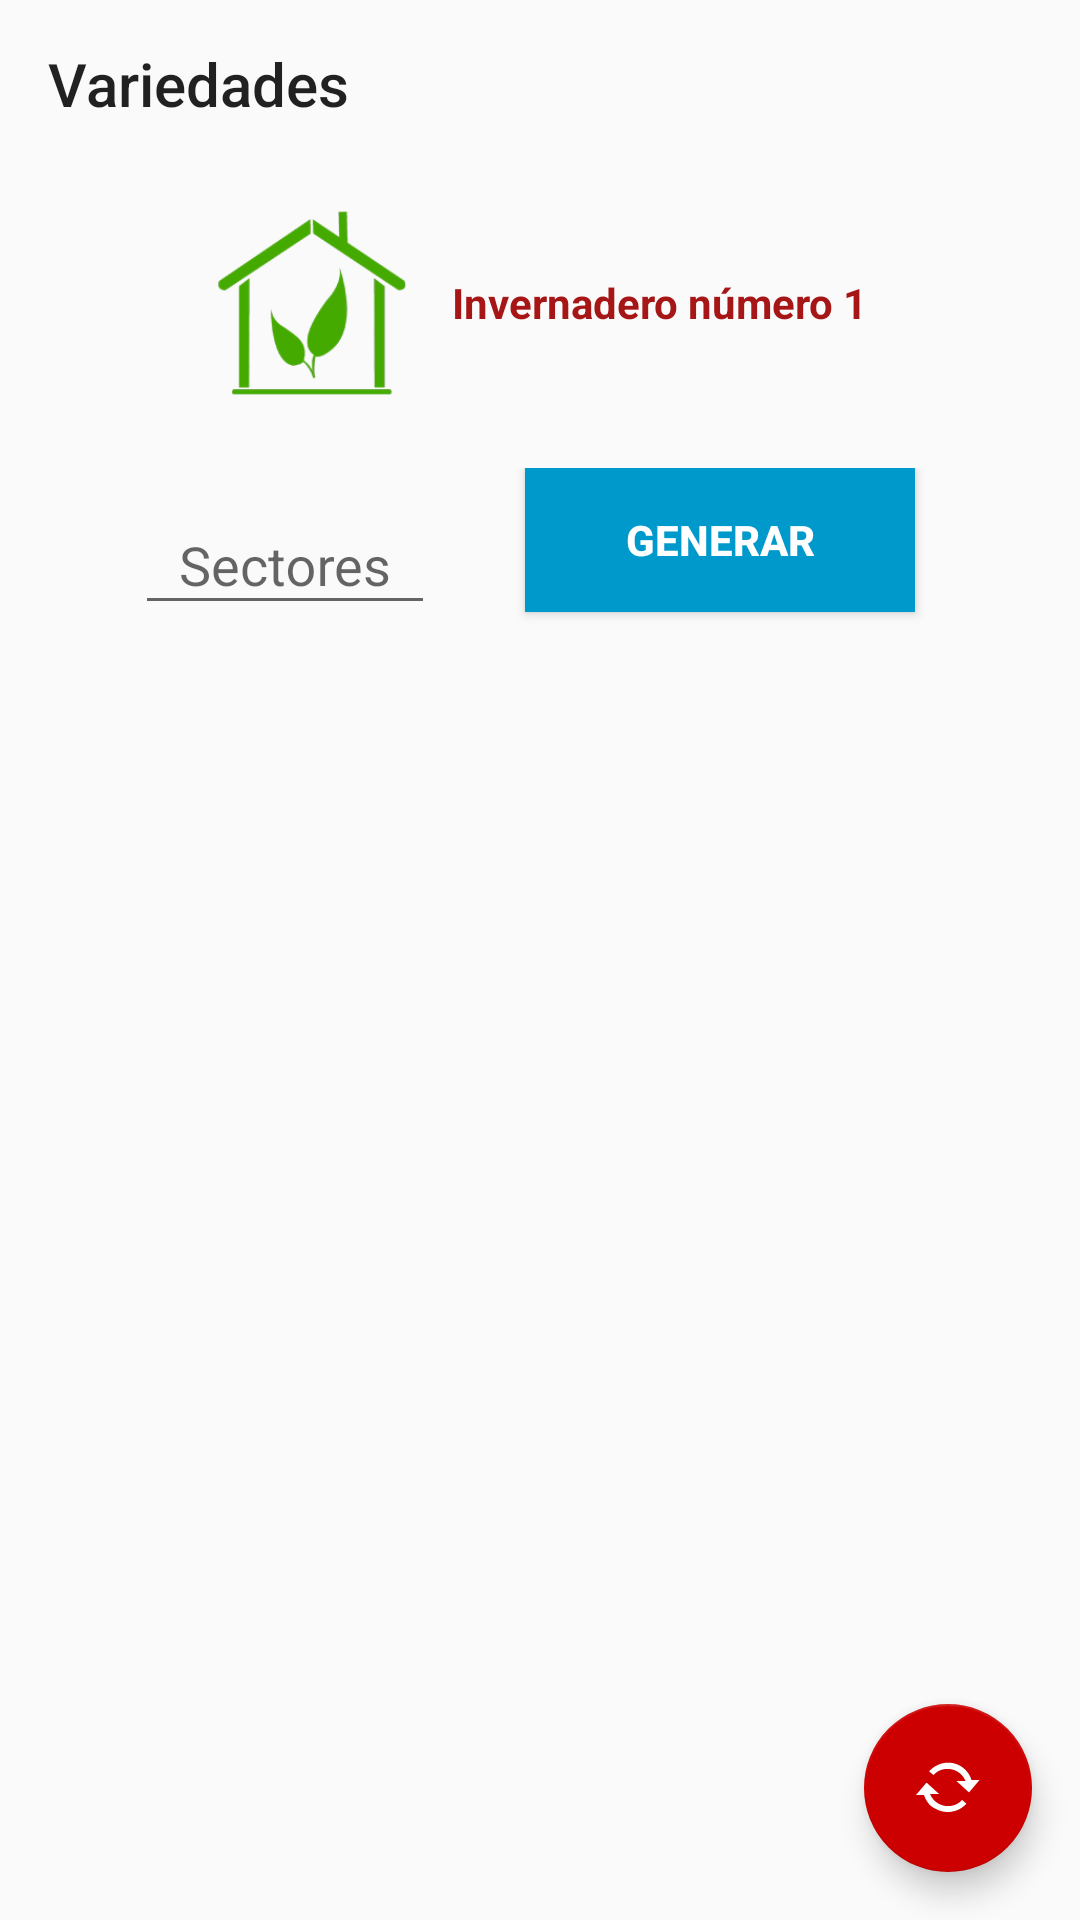

Where to tap for icons on this 1080 × 1920 app screen, as (x=x, y=y):
housegreegreen: (x=312, y=303)
sync noanim: (x=948, y=1788)
